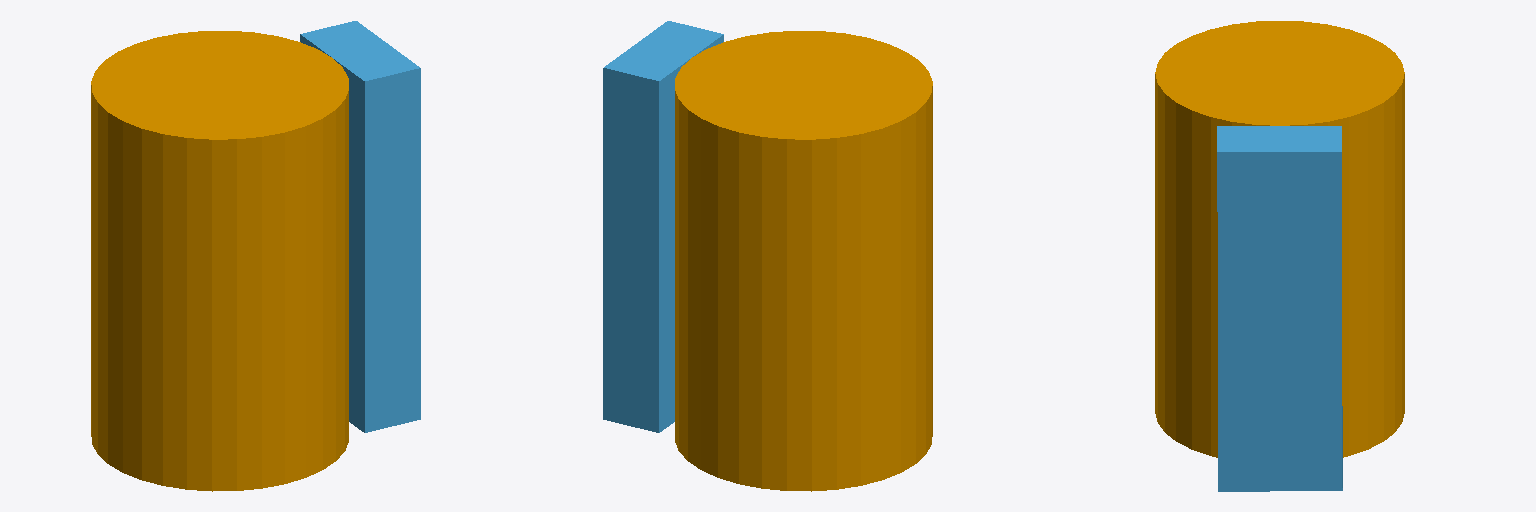
The robot description file, URDF, robot "myrobot":
<?xml version="1.0"?>
<robot name="myrobot">
  <link name="base_link">
    <visual>
      <origin xyz="0 0 0.3"/> <!--step01,refer base_link's frame -->
      <geometry>
        <cylinder length="0.6" radius="0.2"/>
      </geometry>
    </visual>
  </link>
  <link name="right_leg">
    <visual>
      <origin rpy="0 1.57 1.57"/> <!--step03,refer right_leg's frame,has changed,not default parent frame! -->
      <geometry>
        <box size="0.6 0.1 0.2"></box>
      </geometry>
    </visual>
  </link>
  <joint name="base2right_leg" type="fixed">
    <parent link="base_link" />
    <child link="right_leg" />
    <origin xyz="0.25 0 0.3"/> <!-- step02, change right_leg link's frame -->
  </joint>
  <!-- all link frame is parent frame,but can change by joint -->

</robot>

--- What the picture shows (computed from the rendered views, not written in the file) ---
Views: 3 orthographic renders of the robot side by side, from view 1: azimuth 30°, elevation 25°; view 2: azimuth 150°, elevation 25°; view 3: azimuth 270°, elevation 25°.
Robot: myrobot — 2 links, 1 joints (1 fixed); root link base_link; default pose: all joints at 0.
Visible links, largest first — view 1: base_link, right_leg; view 2: base_link, right_leg; view 3: base_link, right_leg.
Boxes of the visible links, x1,y1,x2,y2 form: base_link: (91, 31, 348, 491); right_leg: (300, 21, 420, 432); base_link: (675, 31, 932, 491); right_leg: (603, 21, 723, 432); base_link: (1155, 21, 1404, 457); right_leg: (1217, 126, 1342, 491).
Size in the robot's own frame: 0.5001 by 0.4 by 0.6002 metres.
Geometry: primitives only (box / cylinder / sphere), no mesh files.
